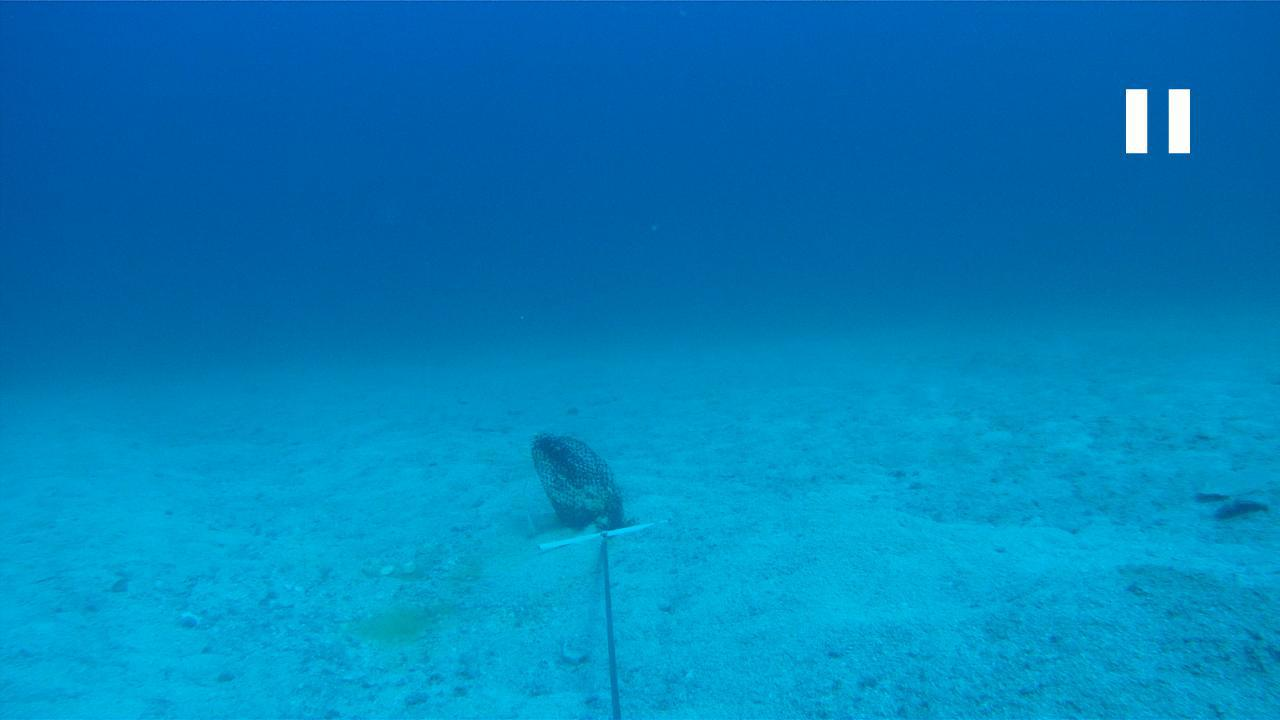bothus: (1195, 476, 1237, 504)
